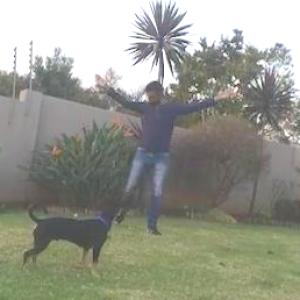takeoff: (92, 71, 236, 224)
